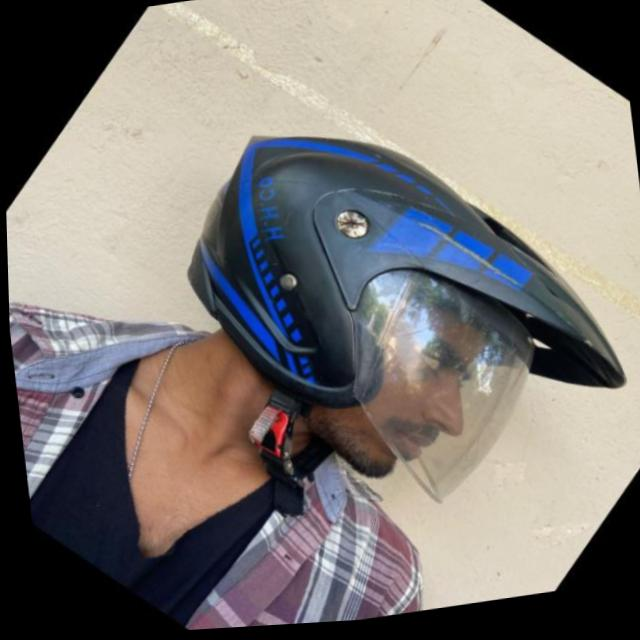WITH_HELMET: (114, 33, 640, 598)
